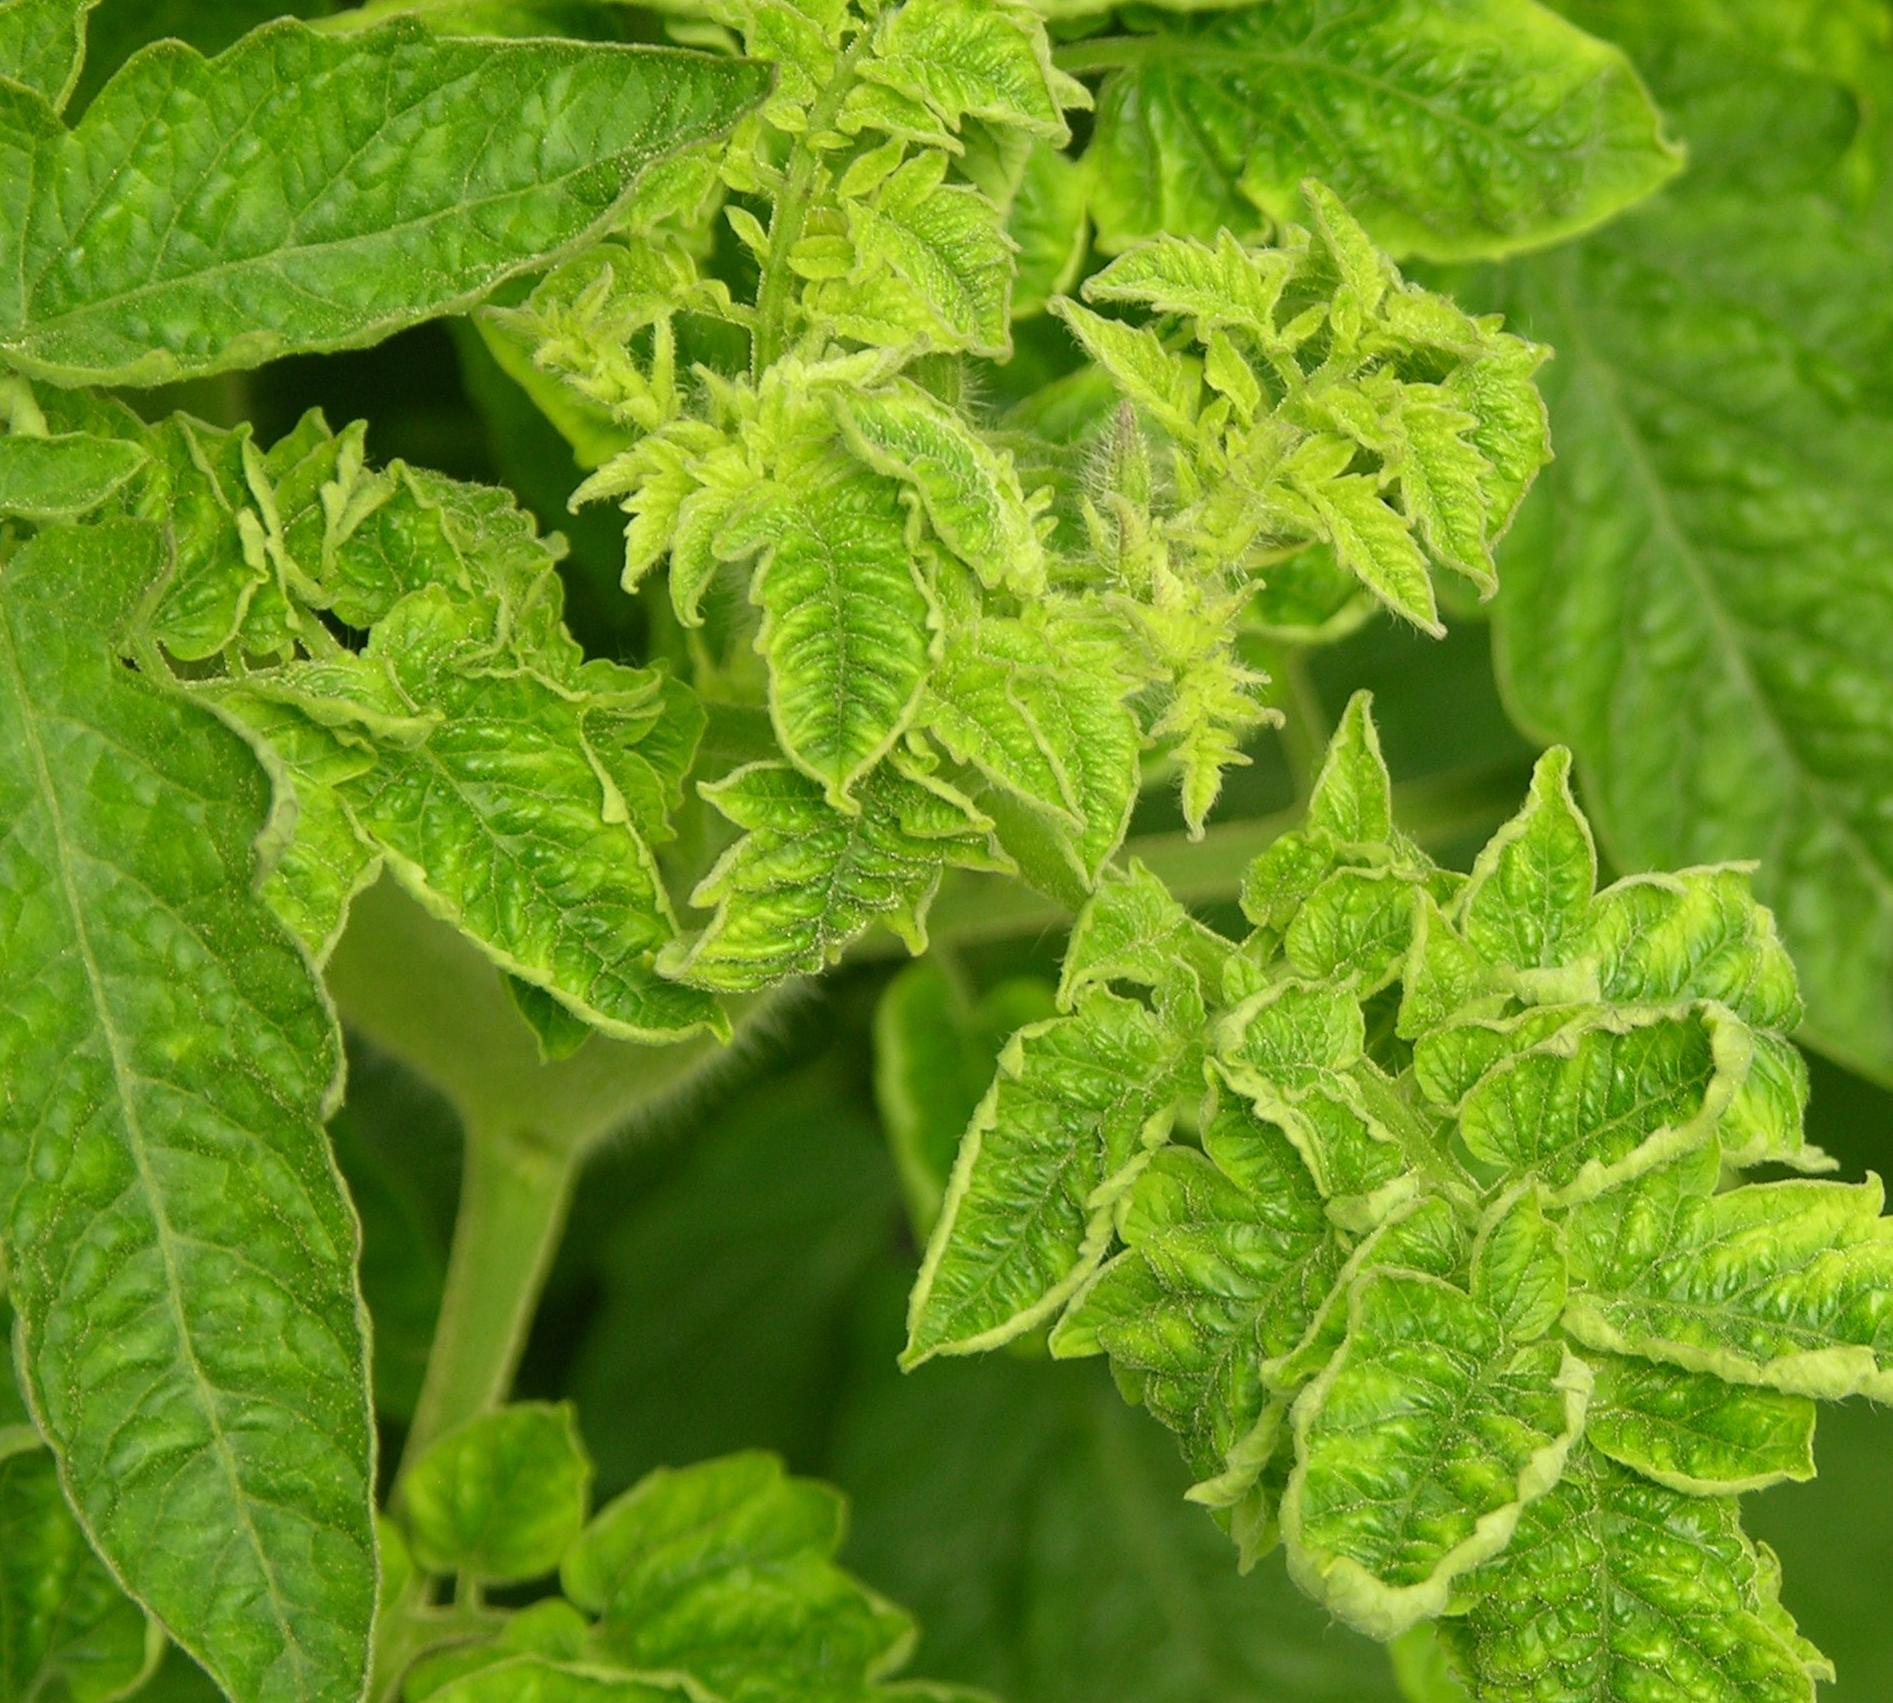Tomato leaf yellow virus: (0, 472, 486, 1703), (0, 0, 897, 386), (306, 598, 764, 1083), (994, 0, 1706, 281), (1227, 1239, 1610, 1691), (877, 934, 1218, 1410), (1490, 1405, 1893, 1703), (1372, 973, 1816, 1215), (1546, 1134, 1893, 1432), (710, 462, 970, 796), (933, 565, 1213, 824), (1265, 465, 1474, 631), (1375, 385, 1518, 551)
